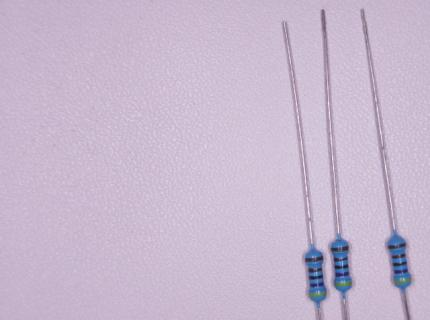Black band: (393, 261, 407, 266), (335, 264, 348, 269), (309, 275, 323, 279)
Brown band: (388, 242, 406, 249), (330, 246, 349, 252), (305, 256, 323, 262), (391, 252, 406, 259), (308, 267, 322, 273), (334, 257, 348, 262)
Violet band: (394, 268, 408, 274), (335, 272, 349, 277), (310, 282, 324, 287)
Yellow band: (334, 281, 352, 287), (394, 278, 412, 284), (309, 293, 327, 297)
